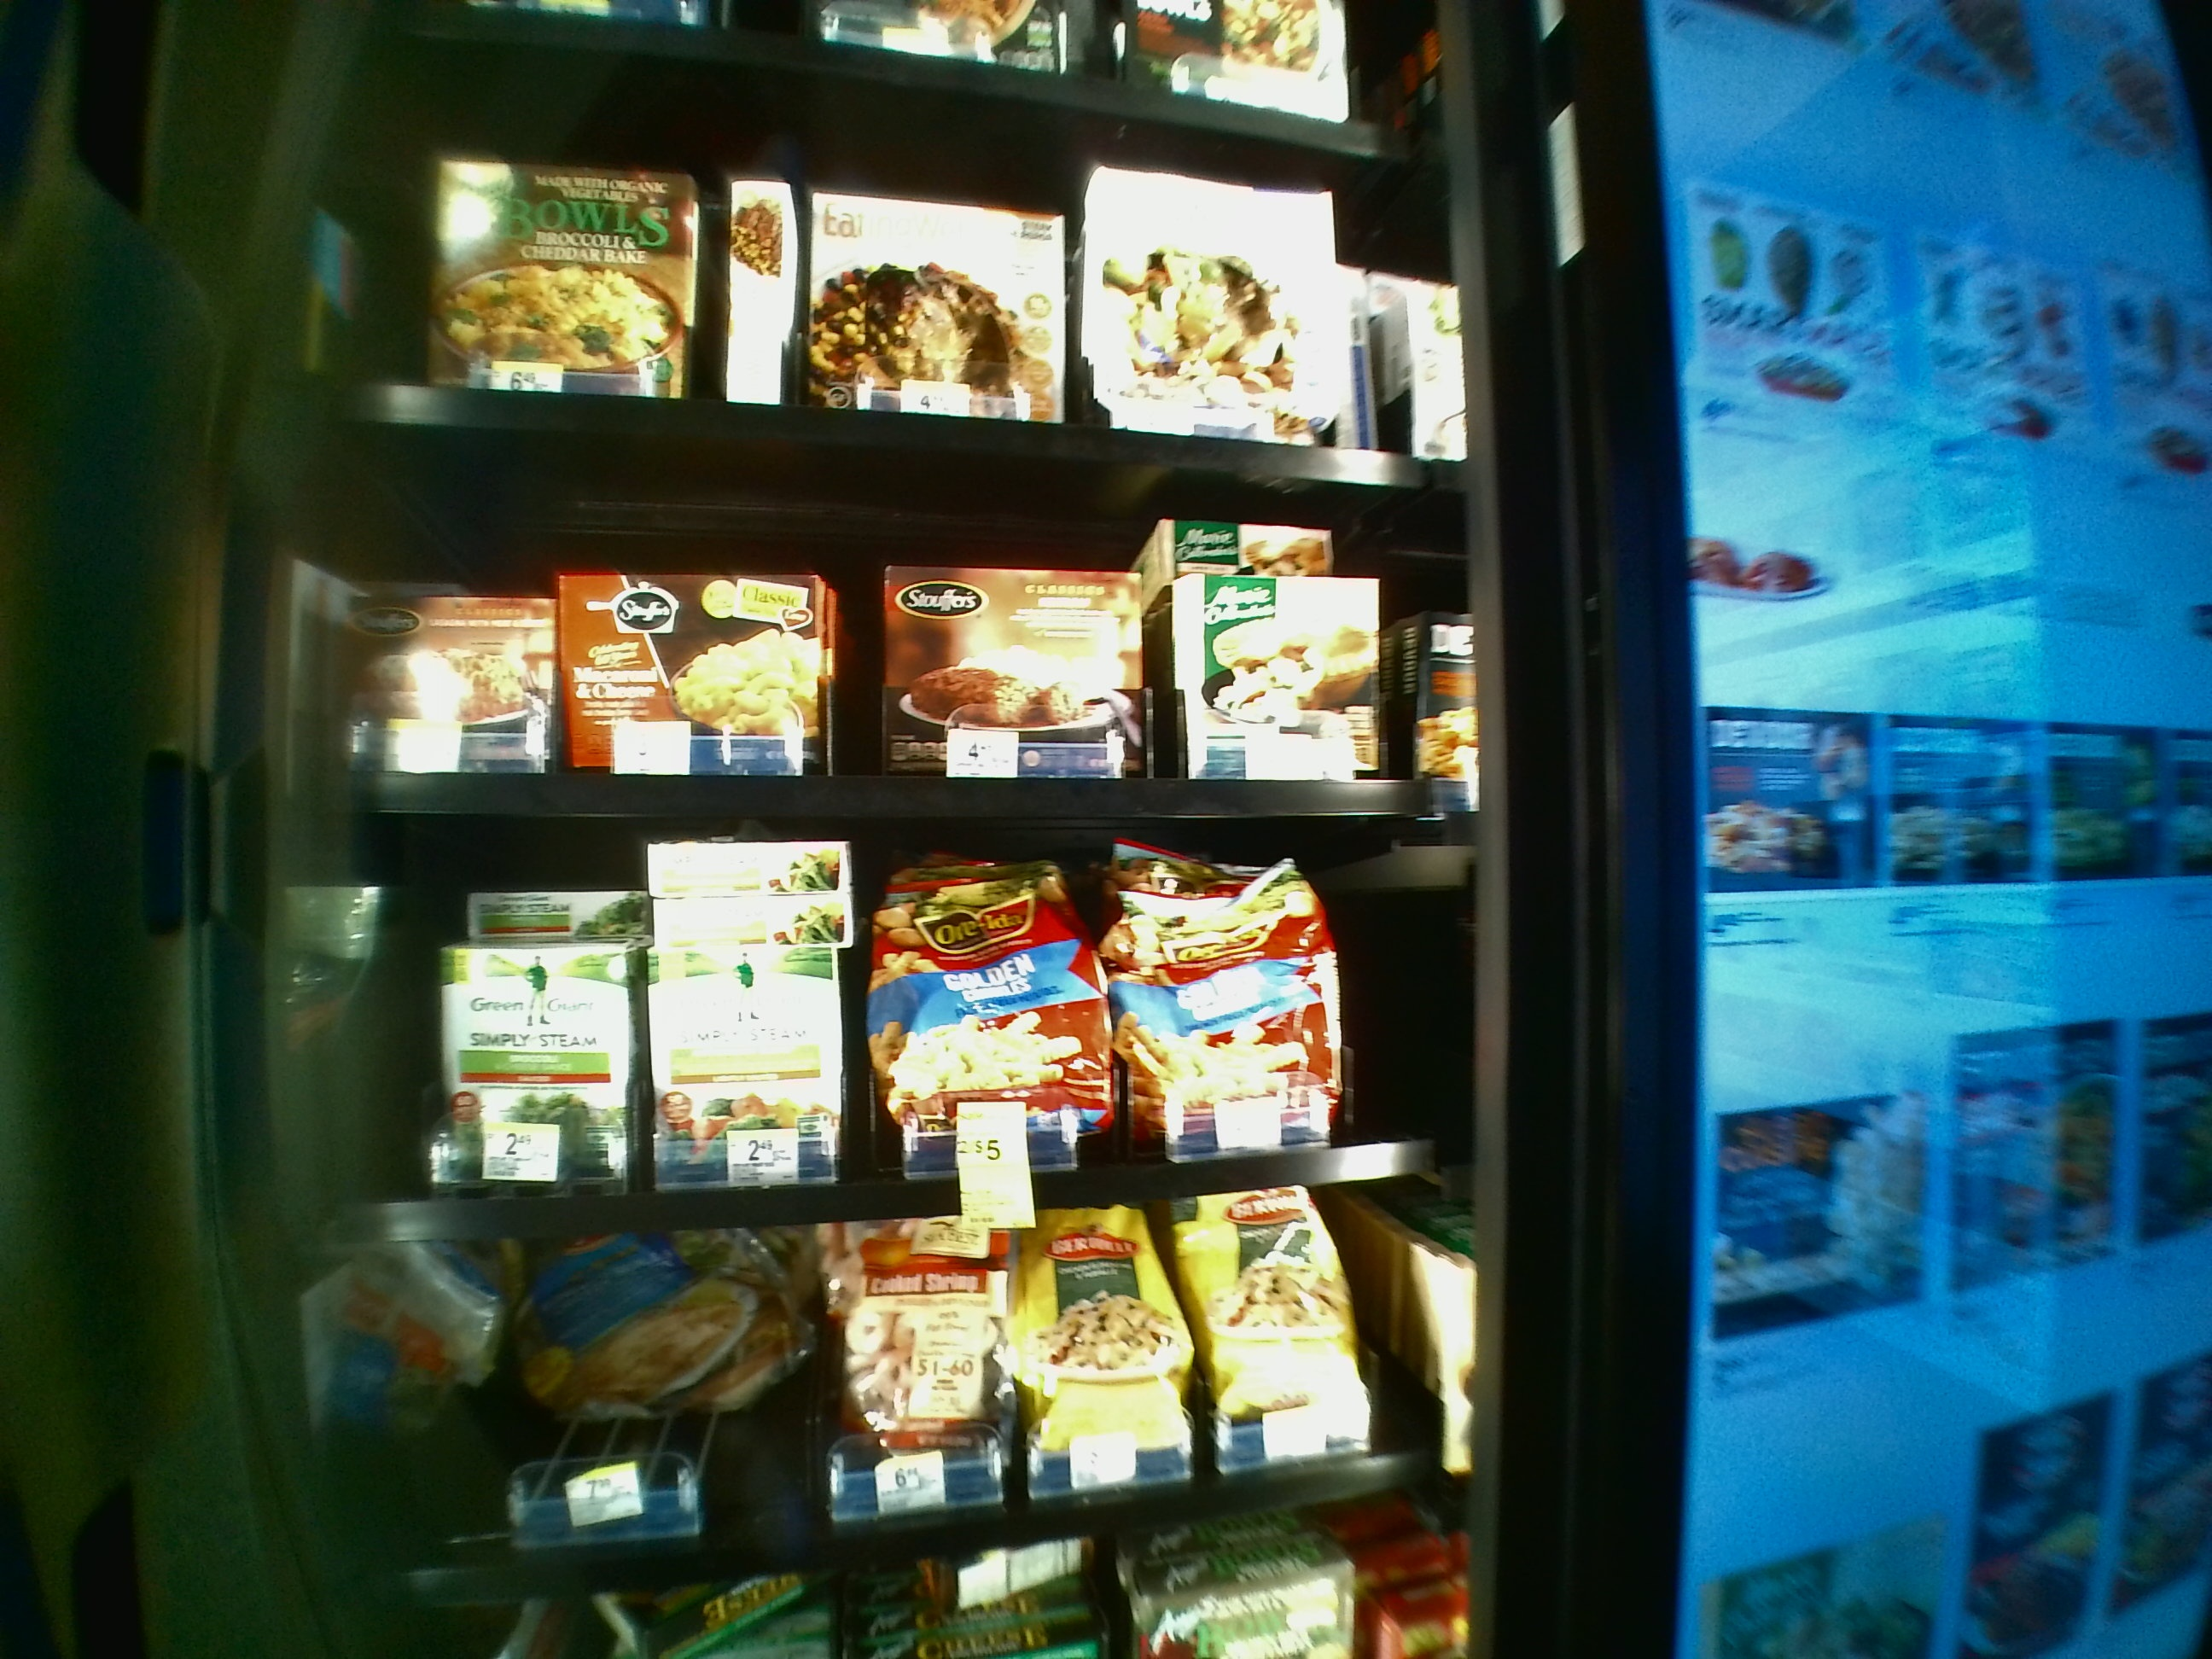shelf: (275, 831, 1460, 1244), (286, 436, 1451, 819)
